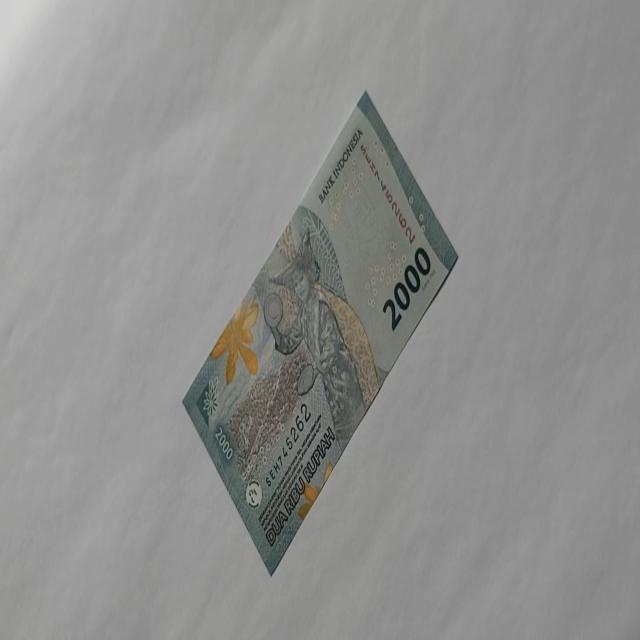dua ribu rupiah: (182, 89, 458, 575), (262, 226, 380, 453)
